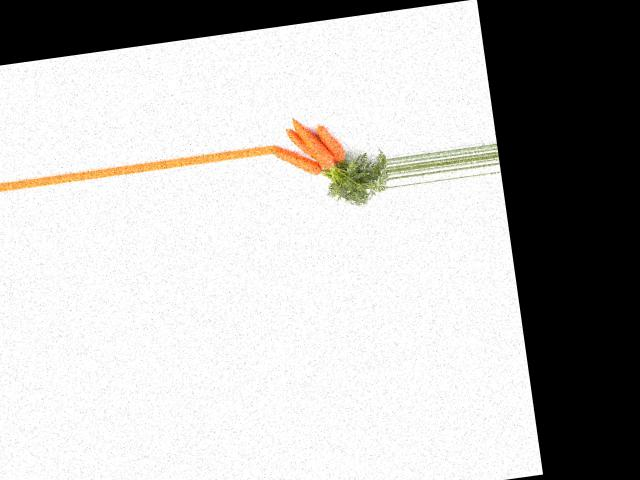carrot: (313, 117, 347, 168)
